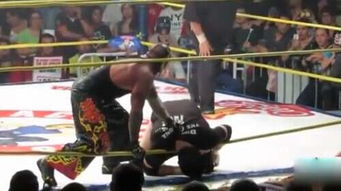10+: (1, 1, 340, 188)
down: (143, 95, 234, 177)
